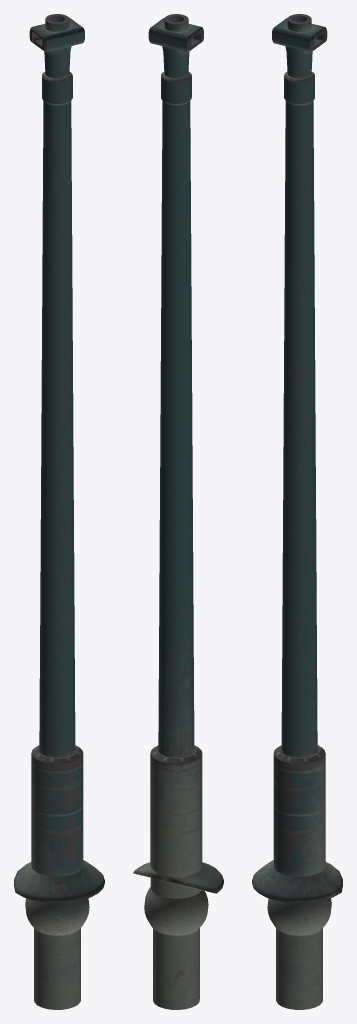
Rendered from Gun_05.glb.
3 renders of one model, left to right at view 1: azimuth 30°, elevation 25°; view 2: azimuth 150°, elevation 25°; view 3: azimuth 330°, elevation 25°, orthographic.
Visible parts, largest first — view 1: set_0_group_0; view 2: set_0_group_0; view 3: set_0_group_0.
Part boxes in pixels (x1=…): set_0_group_0: x1=14, y1=14, x2=104, y2=1009; set_0_group_0: x1=133, y1=14, x2=223, y2=1009; set_0_group_0: x1=252, y1=14, x2=342, y2=1009.
Bounding box in the file's own units: 0.5501 × 6.26 × 0.4615.
1 material, 1 textured.
